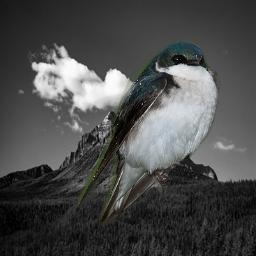Swallow: (78, 35, 223, 227)
